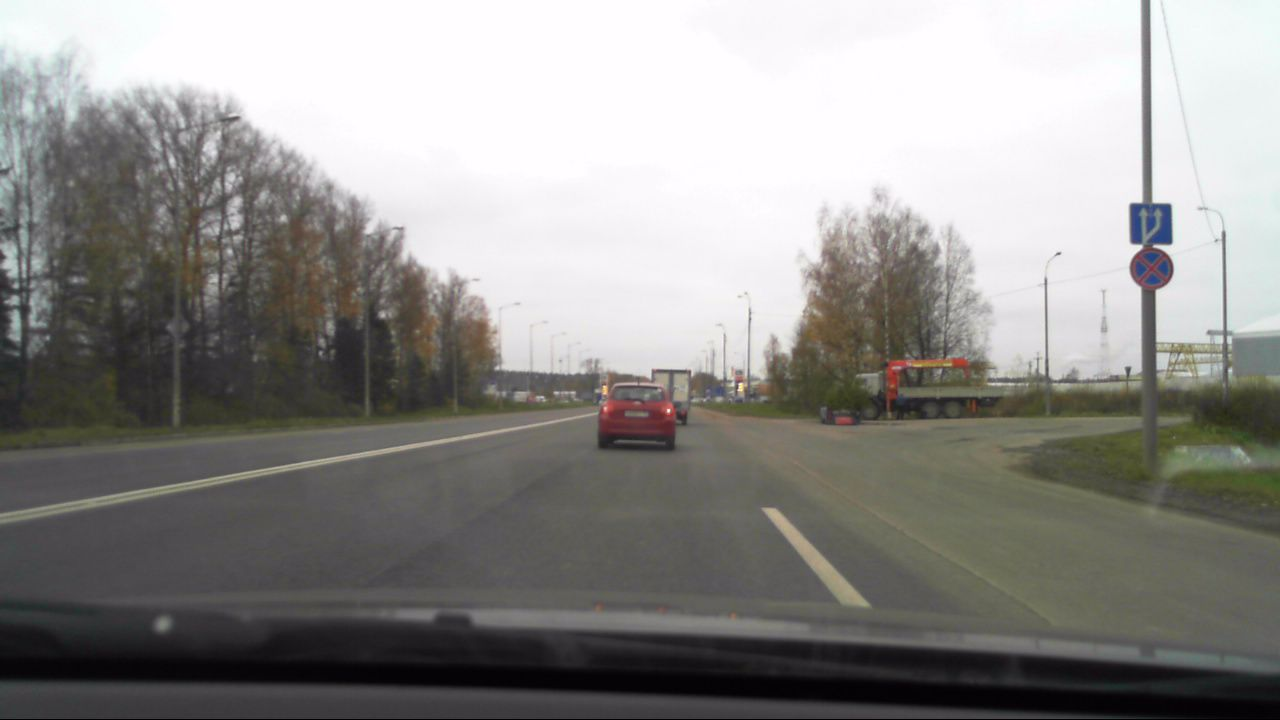No Parking: (1130, 248, 1173, 289)
